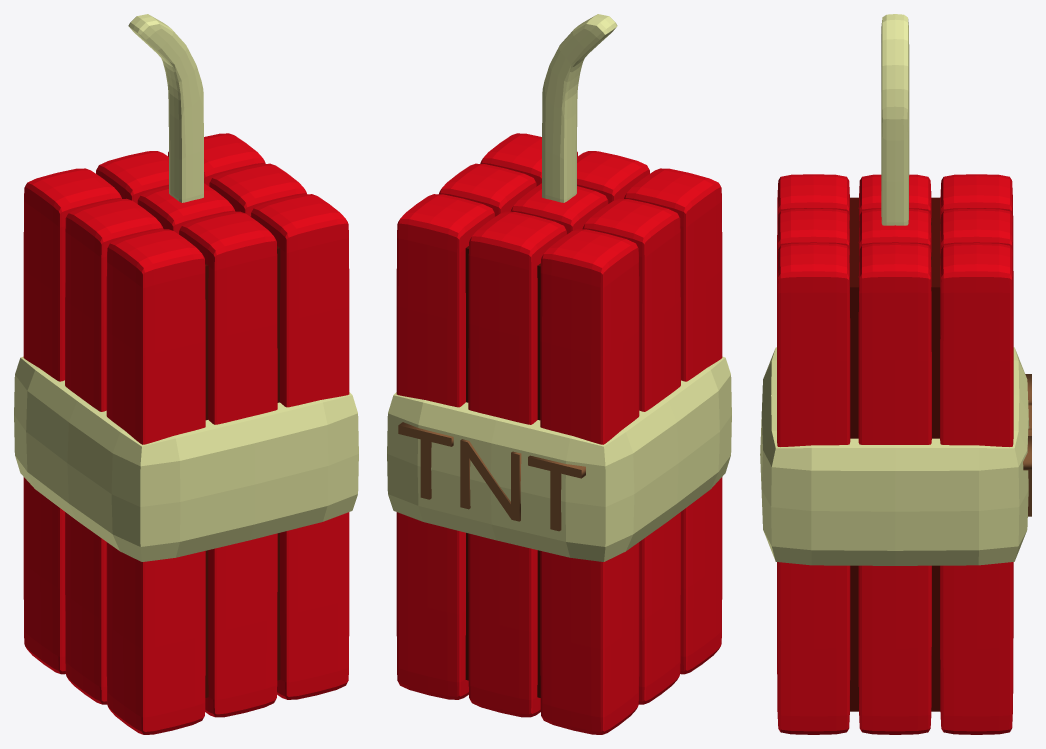
Rendered from Tnt.fbx.
3 renders of one model, left to right at view 1: azimuth 30°, elevation 25°; view 2: azimuth 150°, elevation 25°; view 3: azimuth 270°, elevation 25°, orthographic.
Parts seen in each view (by area): view 1: Text; view 2: Text; view 3: Text.
Boxes of the visible parts, x1,y1,x2,y2 form: Text: (14, 14, 358, 734); Text: (387, 14, 731, 734); Text: (760, 14, 1031, 734).
Size of the model in its own units: 163 by 436 by 164.
